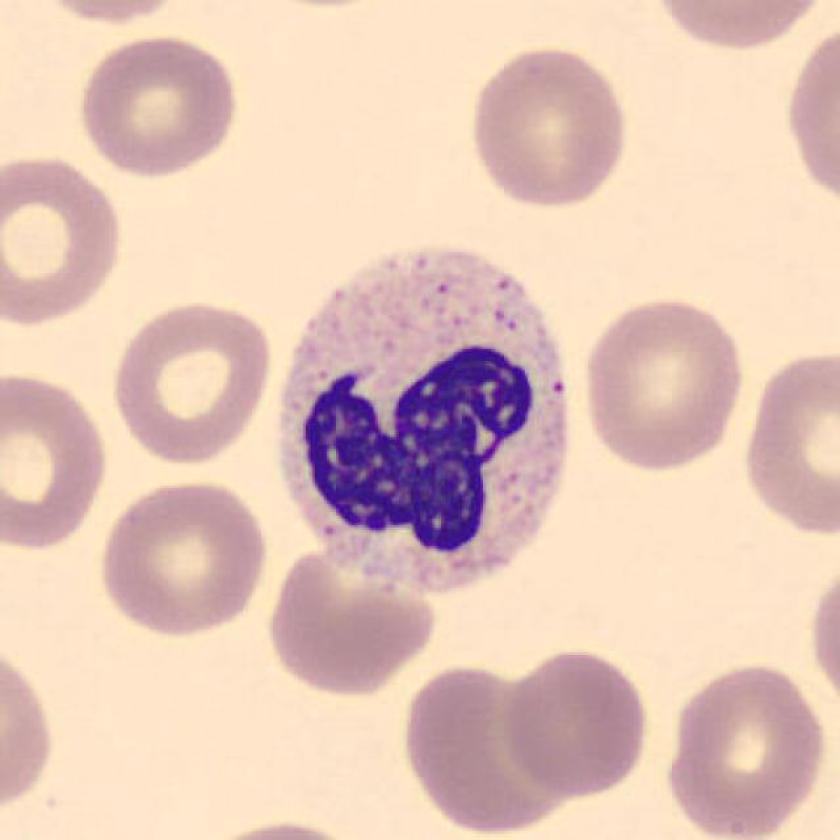neutrophil: (282, 246, 572, 589)
